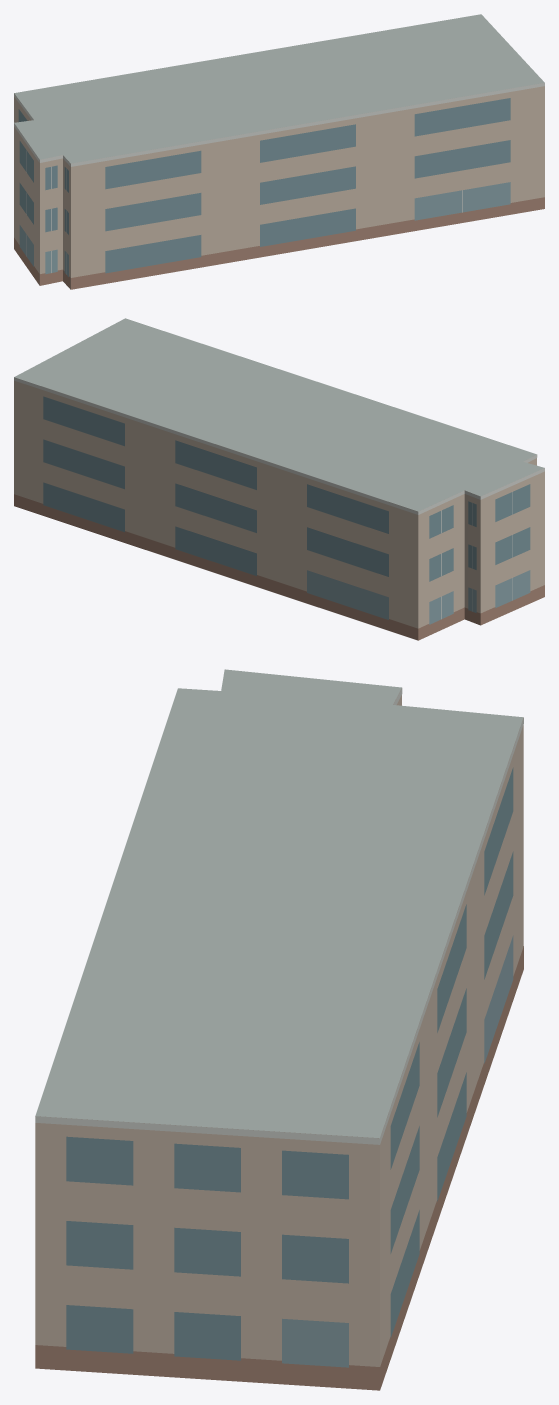
The model's file is survey-upis-32595796.glb.
The picture shows the model from 3 angles, top to bottom: view 1: azimuth 30°, elevation 25°; view 2: azimuth 150°, elevation 25°; view 3: azimuth 270°, elevation 25°; orthographic projection. The views are drawn at different scales.
Visible parts, largest first — view 1: survey-upis-32595796.tmp; view 2: survey-upis-32595796.tmp; view 3: survey-upis-32595796.tmp.
Part boxes in pixels (bbox=[...]): survey-upis-32595796.tmp: bbox=[14, 14, 544, 289]; survey-upis-32595796.tmp: bbox=[14, 318, 544, 640]; survey-upis-32595796.tmp: bbox=[35, 669, 523, 1390].
Bounding box in the file's own units: 36.47 × 9.15 × 16.06.
